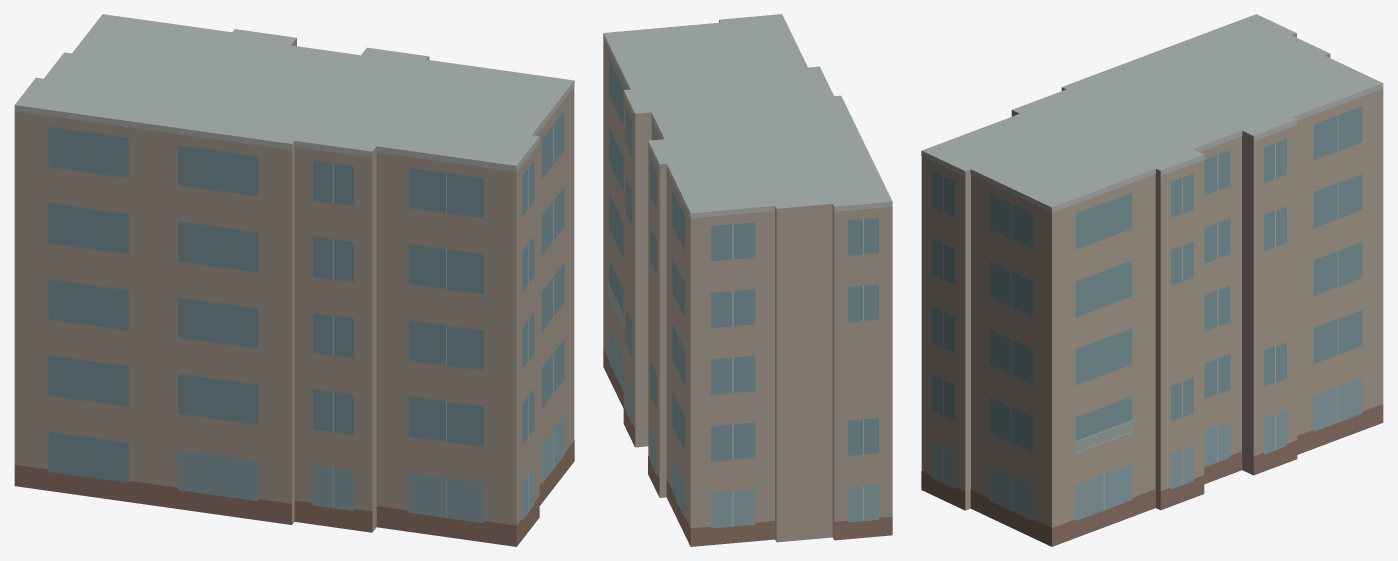
File: survey-upis-32788031.glb
3 renders of one model, left to right at view 1: azimuth 30°, elevation 25°; view 2: azimuth 150°, elevation 25°; view 3: azimuth 270°, elevation 25°, orthographic. The views are drawn at different scales.
Visible parts, largest first — view 1: survey-upis-32788031.tmp; view 2: survey-upis-32788031.tmp; view 3: survey-upis-32788031.tmp.
Part boxes in pixels (x1,y1,x2,y2): survey-upis-32788031.tmp: (14,14,574,546); survey-upis-32788031.tmp: (603,14,892,546); survey-upis-32788031.tmp: (921,14,1383,546).
Size of the model in its own units: 18.84 by 15.4 by 19.
